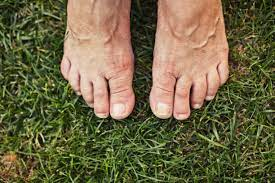Feet: (149, 0, 231, 120), (59, 0, 136, 121)
